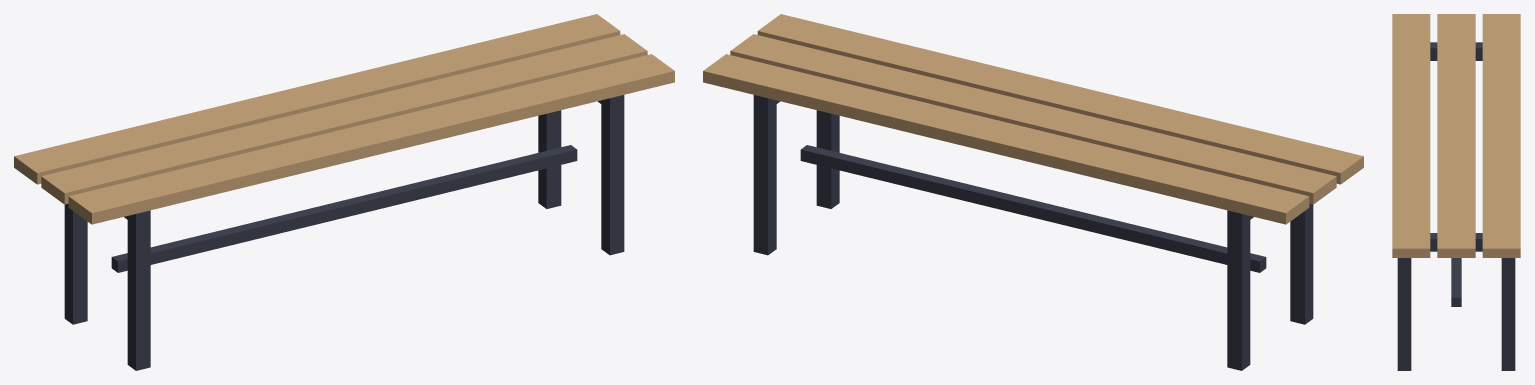
Rendered from sch-036.glb.
3 renders of one model, left to right at view 1: azimuth 30°, elevation 25°; view 2: azimuth 150°, elevation 25°; view 3: azimuth 270°, elevation 25°, orthographic. The views are drawn at different scales.
Parts seen in each view (by area): view 1: oak, dark_steel; view 2: oak, dark_steel; view 3: oak, dark_steel.
Boxes of the visible parts, <box> form: oak: <box>14,14,674,224</box>; dark_steel: <box>64,95,624,370</box>; oak: <box>703,14,1363,224</box>; dark_steel: <box>753,95,1313,370</box>; oak: <box>1392,14,1520,257</box>; dark_steel: <box>1397,42,1515,370</box>.
Bounding box in the file's own units: 1.6 × 0.45 × 0.37.
